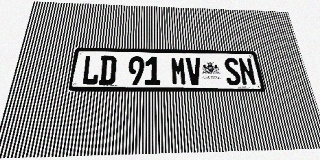1: (145, 56, 160, 85)
9: (128, 56, 144, 85)
D: (98, 56, 117, 85)
L: (81, 55, 101, 85)
M: (171, 57, 187, 85)
N: (238, 58, 257, 85)
S: (223, 58, 242, 85)
V: (186, 57, 203, 85)
